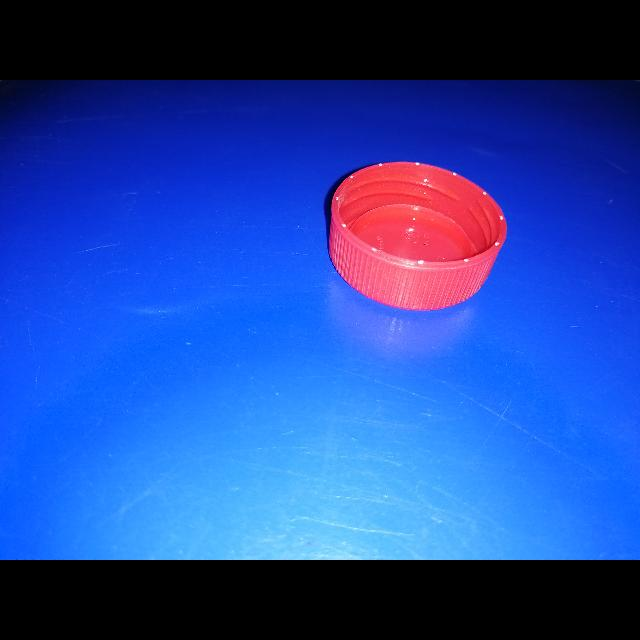plastic_bottle_cap: (325, 159, 509, 311)
